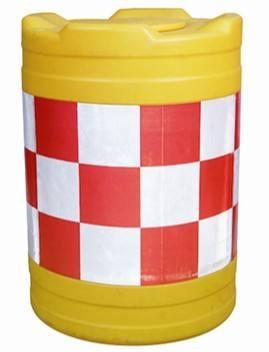sign: (12, 4, 254, 343)
